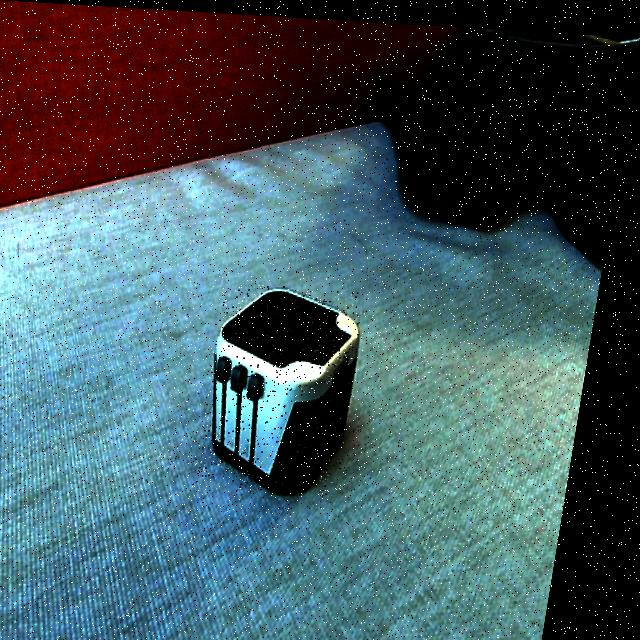adapter: (207, 279, 378, 492)
